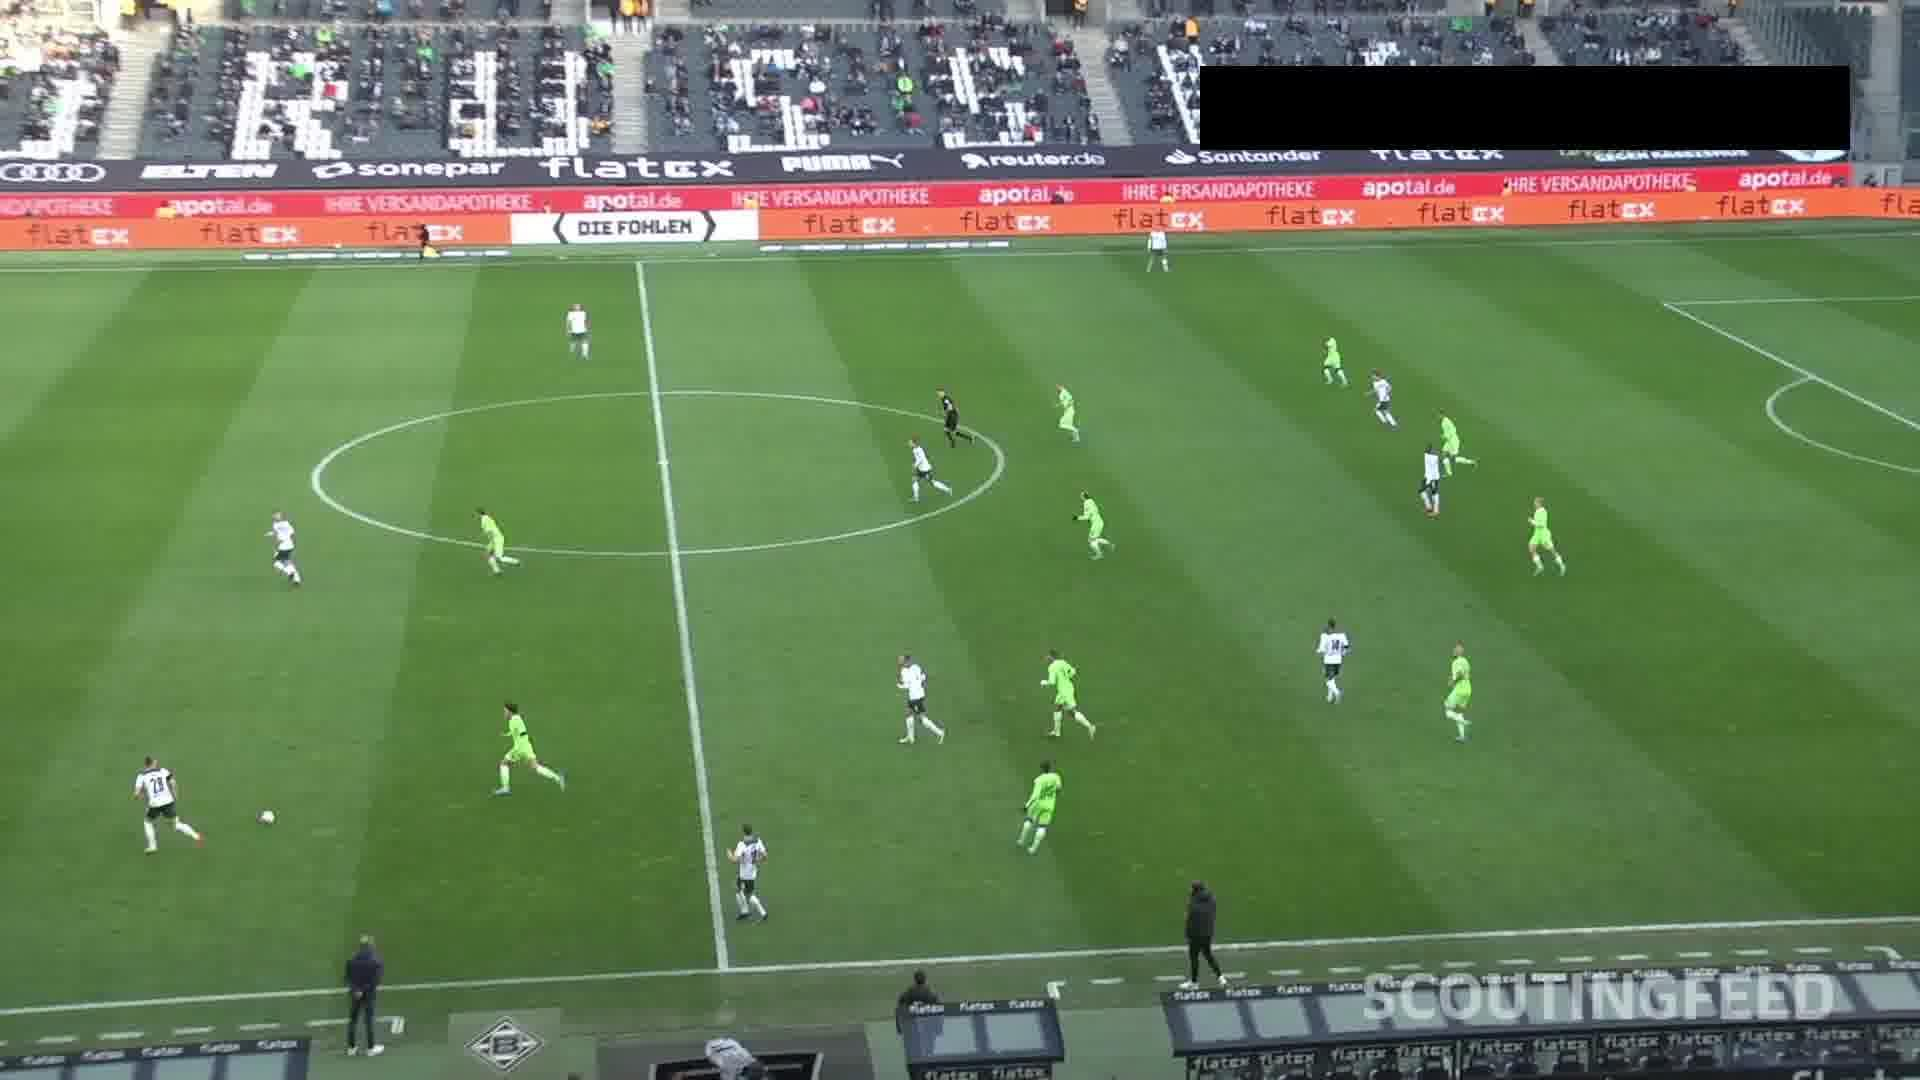football: (256, 807, 280, 827)
